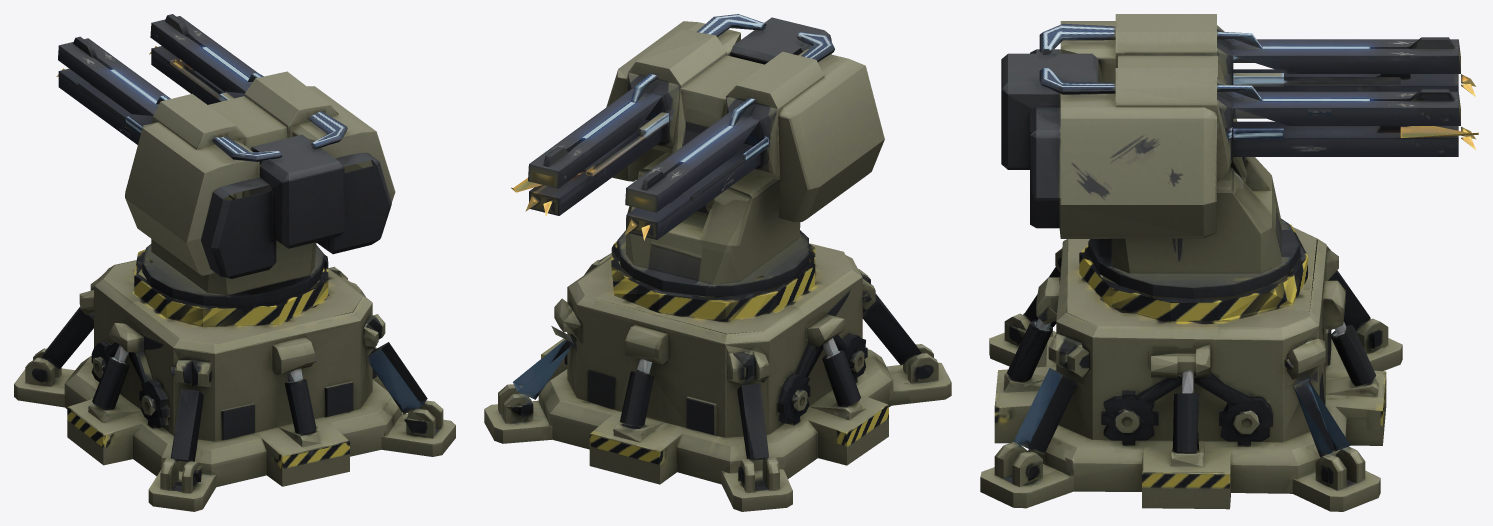
Rendered from turret.glb.
3 renders of one model, left to right at view 1: azimuth 30°, elevation 25°; view 2: azimuth 150°, elevation 25°; view 3: azimuth 270°, elevation 25°, orthographic. The views are drawn at different scales.
Visible parts, largest first — view 1: tripo_node_6dd1b7f6-f165-4512-9b39-5b7842f0b684; view 2: tripo_node_6dd1b7f6-f165-4512-9b39-5b7842f0b684; view 3: tripo_node_6dd1b7f6-f165-4512-9b39-5b7842f0b684.
Boxes of the visible parts, x1,y1,x2,y2 form: tripo_node_6dd1b7f6-f165-4512-9b39-5b7842f0b684: (14,14,455,511); tripo_node_6dd1b7f6-f165-4512-9b39-5b7842f0b684: (484,14,951,511); tripo_node_6dd1b7f6-f165-4512-9b39-5b7842f0b684: (980,14,1478,511).
Size of the model in its own units: 0.728 by 0.7378 by 0.8865.
1 material, 1 textured.
